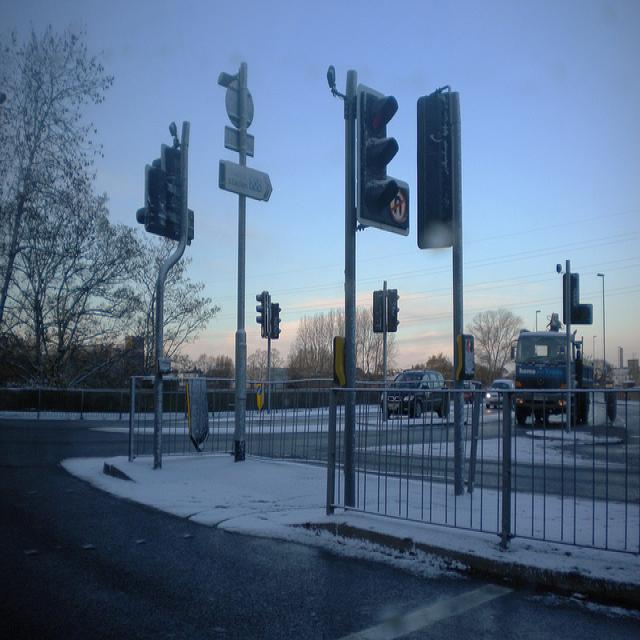Vehicle: (514, 329, 595, 426), (388, 367, 450, 419), (485, 380, 516, 408), (464, 381, 482, 404)
